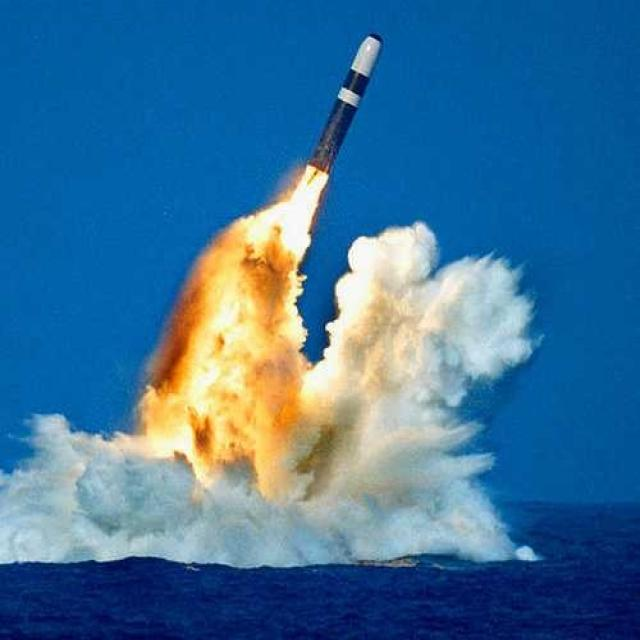missile: (310, 34, 383, 178)
